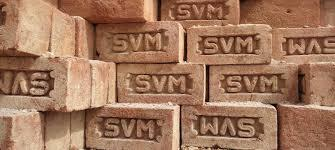brick: (181, 105, 278, 149), (84, 105, 174, 149), (208, 63, 298, 103), (117, 63, 204, 104), (1, 57, 68, 110), (95, 22, 180, 63), (187, 24, 272, 64), (279, 107, 335, 149), (240, 0, 319, 27), (274, 28, 335, 62), (160, 0, 238, 23), (310, 63, 335, 107)
